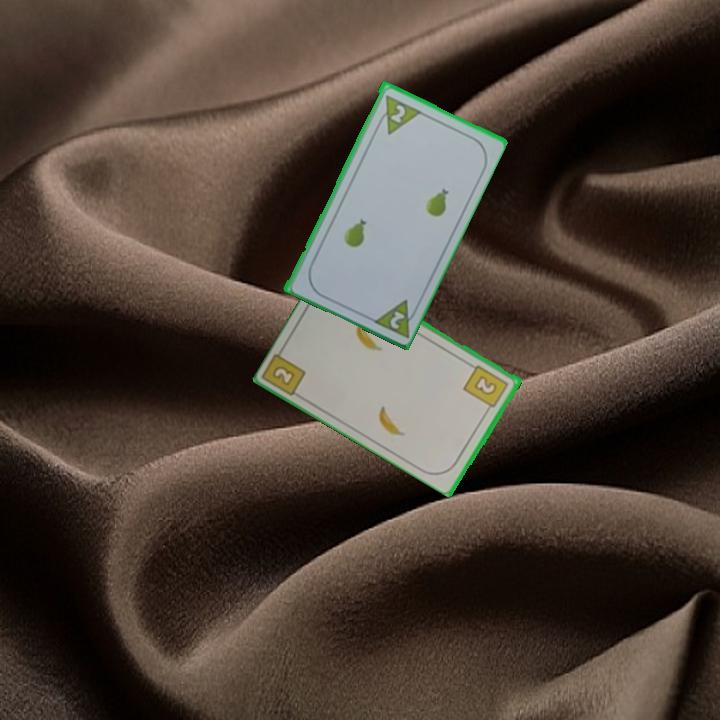2b: (460, 361, 512, 415), (269, 362, 298, 389)
2p: (368, 295, 422, 340), (386, 100, 408, 126)
